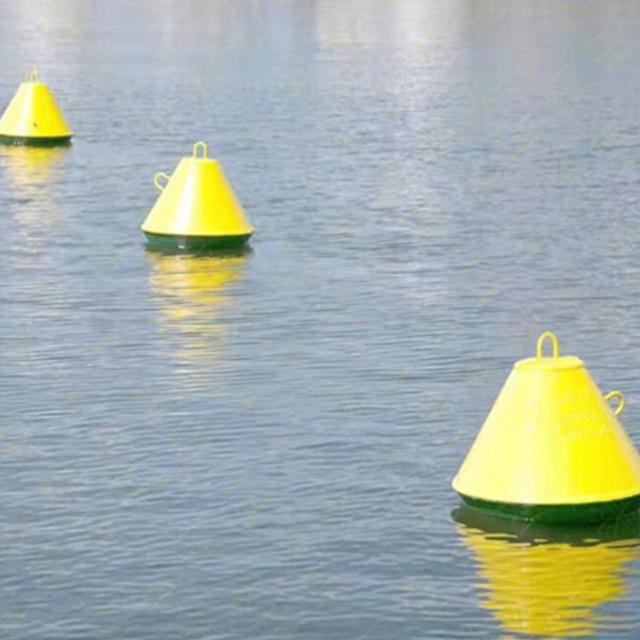buoy: (452, 333, 640, 522), (136, 138, 253, 242), (0, 68, 78, 151)
